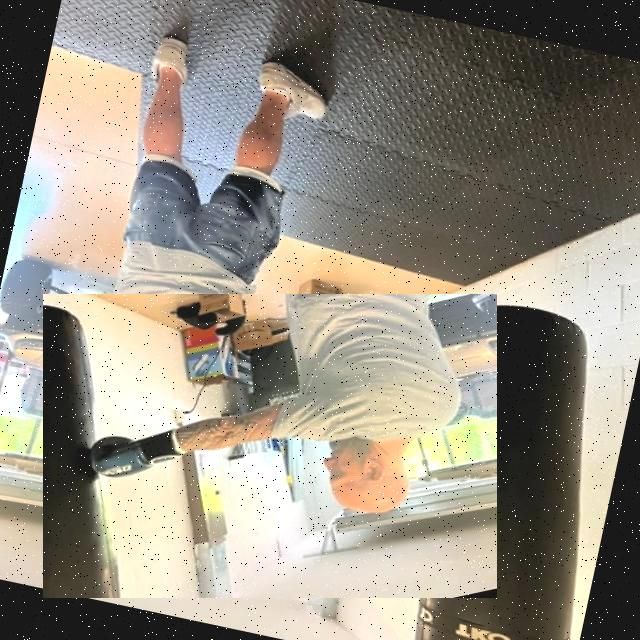punch: (43, 294, 497, 598)
